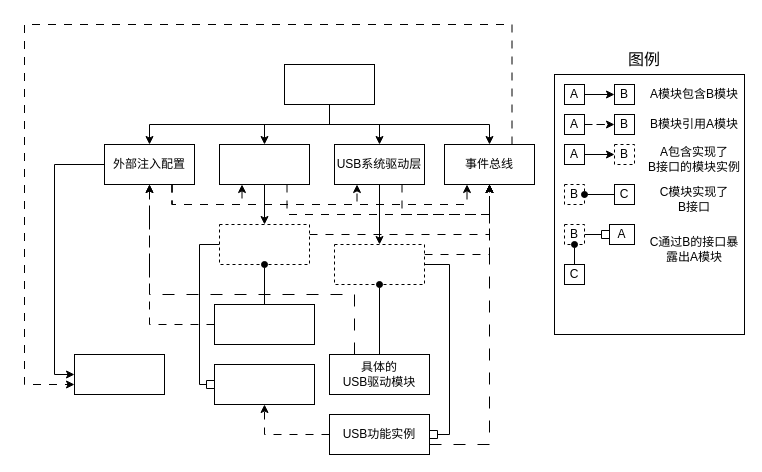
The diagram is 762 pixels wide and 472 high, and some of its shapes have lost their labels. Here are the shapes that lost their labels. From the top down, the centre of each, then its label:
At (x=329, y=84): "USB驱动子系统".
At (x=264, y=164): "主机控制器层".
At (x=264, y=244): "主机控制器".
At (x=379, y=264): "USB驱动模块".
At (x=264, y=324): "控制器驱动模块".
At (x=119, y=374): "平台抽象层".
At (x=264, y=384): "驱动无关的 设备实例".
